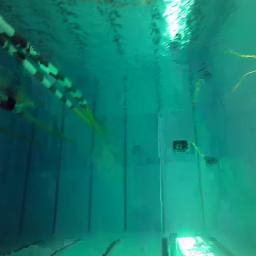Full: (173, 140, 190, 150), (204, 156, 220, 166)
